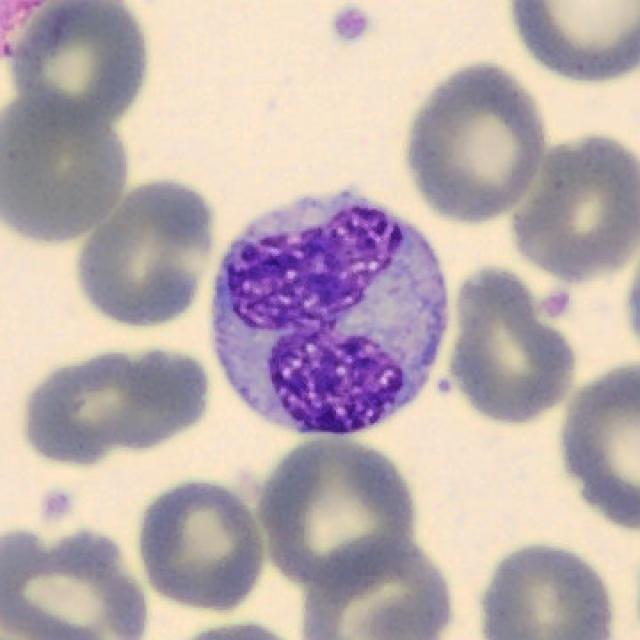Monocito: (210, 192, 450, 436)
